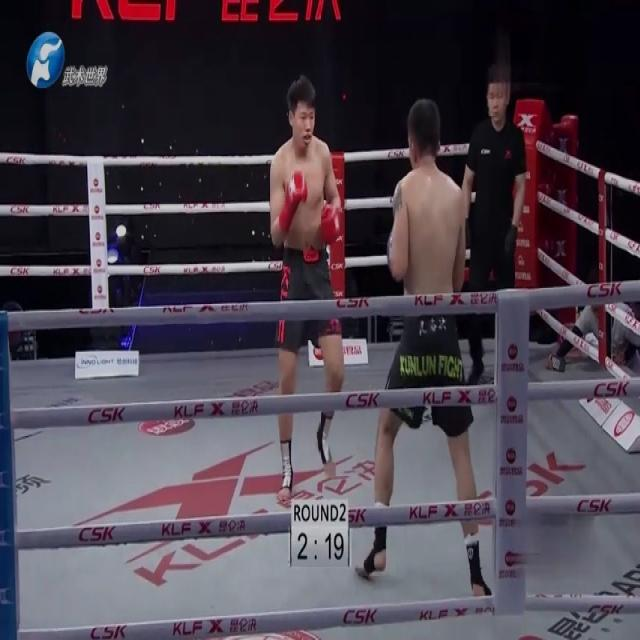fight: (265, 70, 485, 594)
non-fight: (452, 61, 528, 387)
